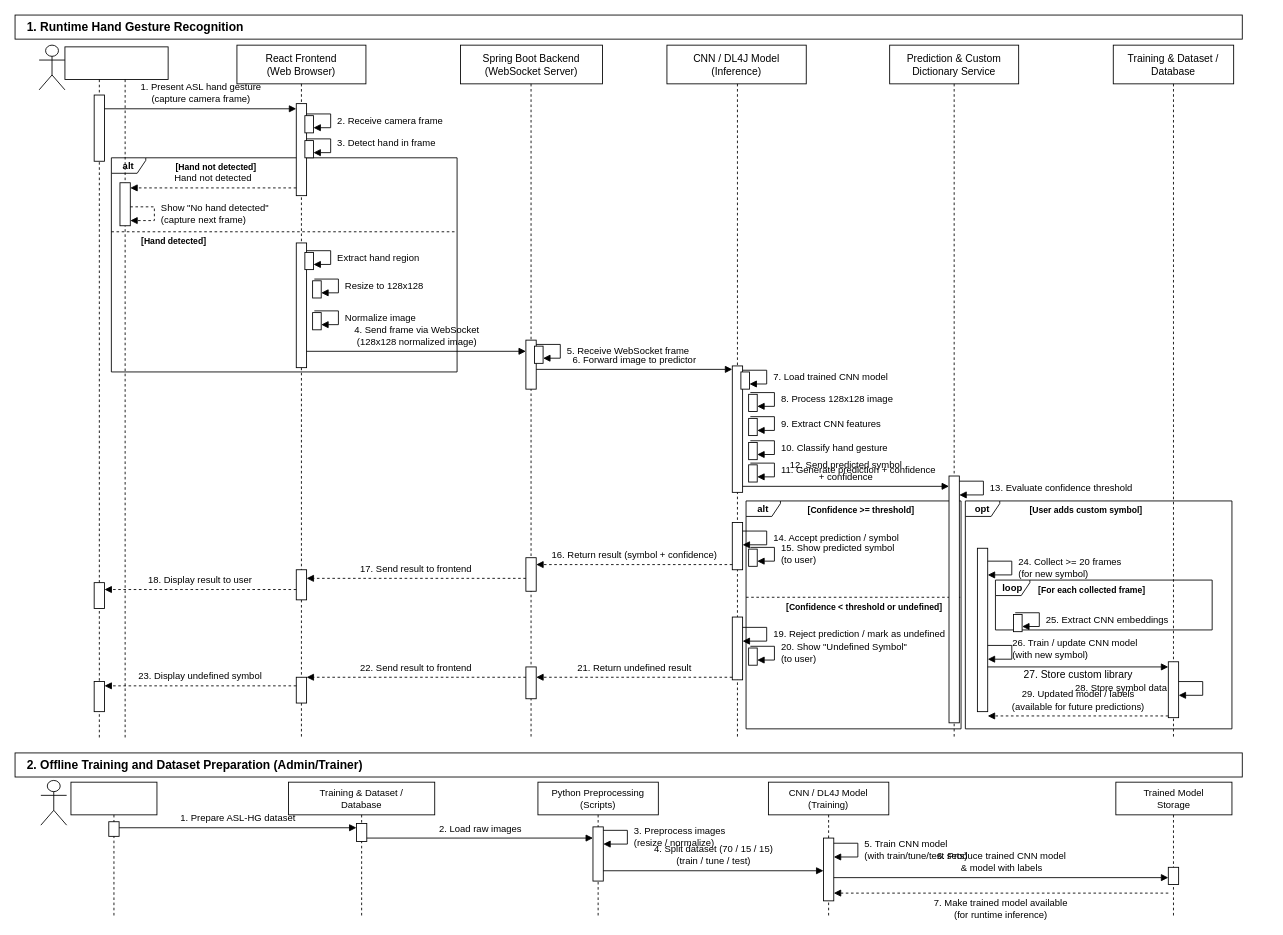
The diagram is 1283 pixels wide and 935 high, and some of its shapes have lost their labels. The centre of each missing label's shape, as x and y in pixels:
Admin / Trainer: the point at 113,798
User / Camera: the point at 116,63
